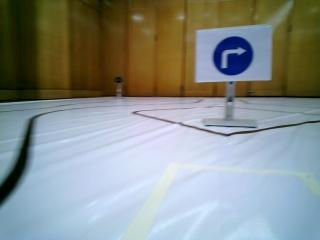right: (197, 32, 272, 82)
